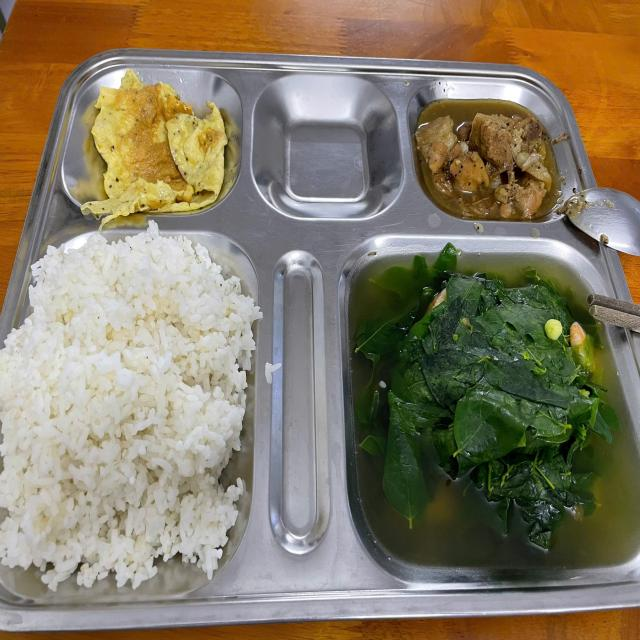canhrau: (344, 253, 640, 580)
salad: (0, 242, 265, 598)
thitkhogung: (410, 91, 568, 229)
trungluoc: (79, 74, 230, 218)
